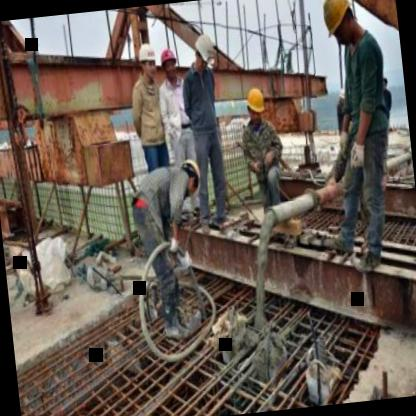helmet: (315, 0, 373, 51), (176, 156, 206, 199), (191, 31, 219, 74), (136, 40, 162, 84), (242, 84, 268, 126), (159, 45, 181, 80)
